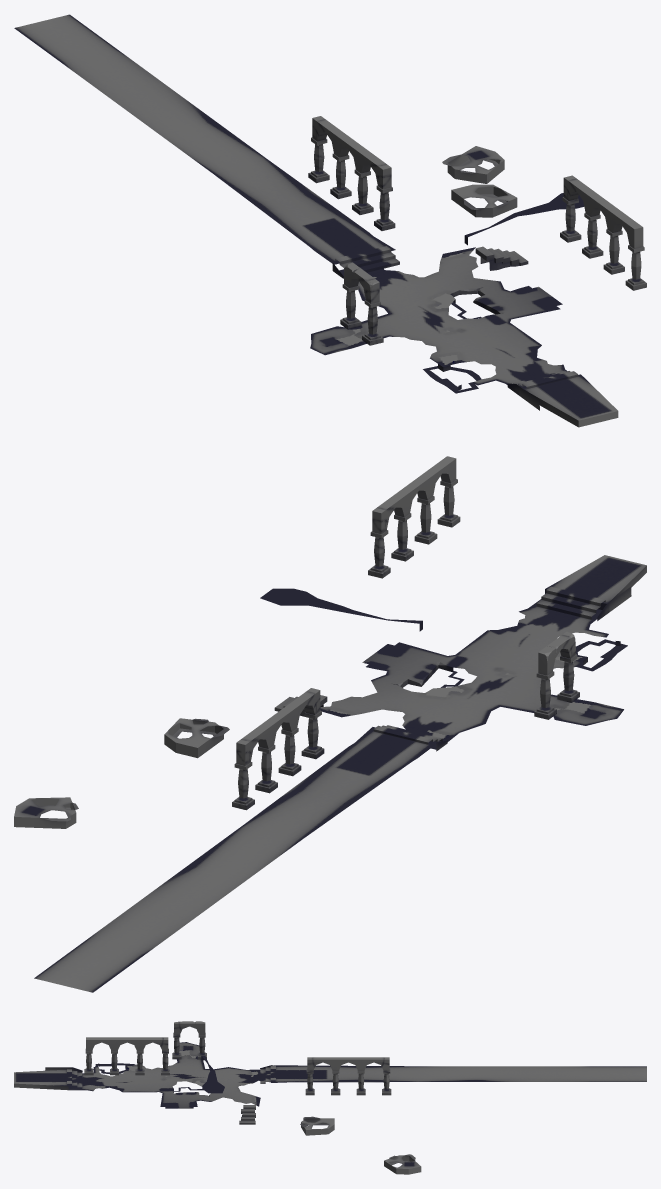
Rendered from Ground_02.FBX.
3 renders of one model, top to bottom at view 1: azimuth 30°, elevation 25°; view 2: azimuth 150°, elevation 25°; view 3: azimuth 270°, elevation 25°, orthographic. The views are drawn at different scales.
Parts seen in each view (by area): view 1: Ground_02; view 2: Ground_02; view 3: Ground_02.
Part boxes in pixels (bbox=[...]): Ground_02: bbox=[14, 14, 646, 427]; Ground_02: bbox=[14, 456, 646, 992]; Ground_02: bbox=[14, 1021, 646, 1174].
Size of the model in its own units: 28.85 by 12.35 by 72.23.
